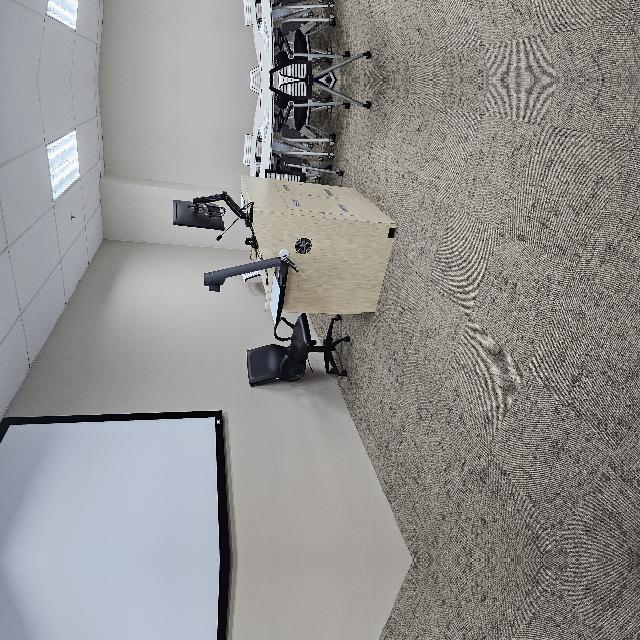obstacle: (243, 318, 385, 478), (172, 324, 248, 432), (318, 250, 372, 336)
